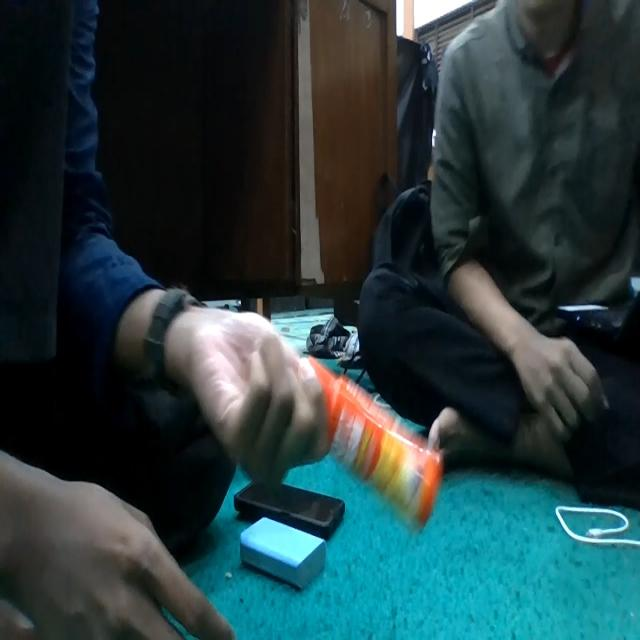Boncabe: (308, 357, 442, 528)
Powerbank: (240, 517, 326, 589)
